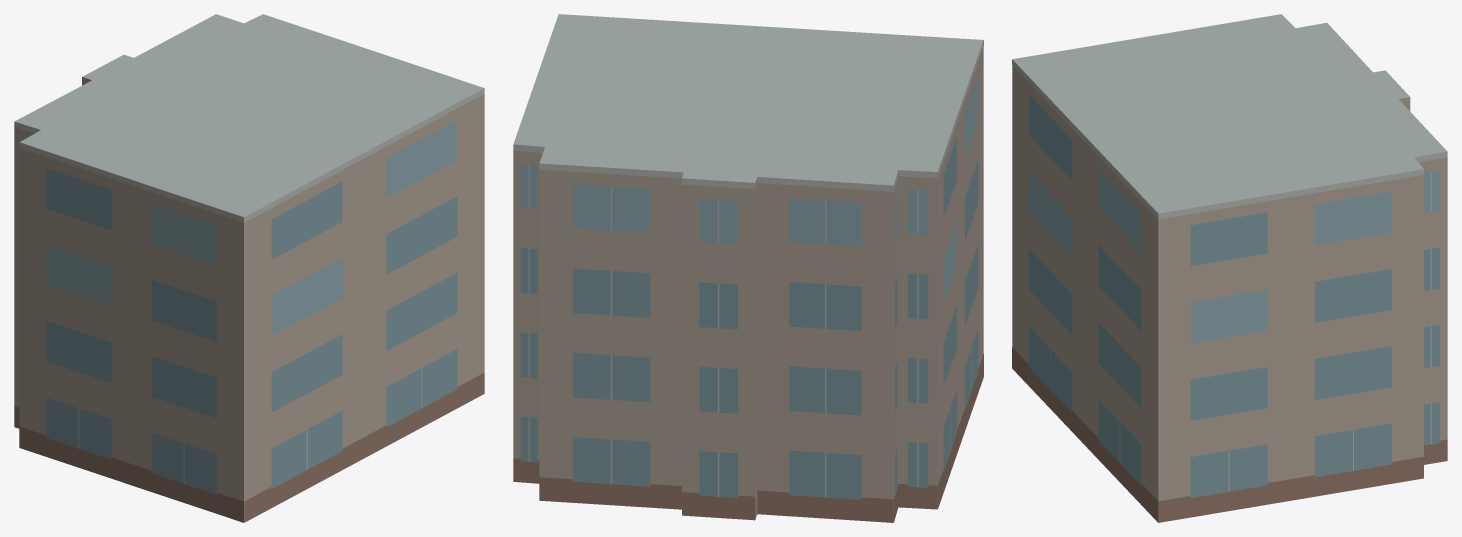
The model's file is survey-upis-32748093.glb.
3 views of the same model, side by side, from view 1: azimuth 30°, elevation 25°; view 2: azimuth 150°, elevation 25°; view 3: azimuth 270°, elevation 25° (orthographic). The views are drawn at different scales.
Parts seen in each view (by area): view 1: survey-upis-32748093.tmp; view 2: survey-upis-32748093.tmp; view 3: survey-upis-32748093.tmp.
Boxes of the visible parts, x1,y1,x2,y2 form: survey-upis-32748093.tmp: [14, 14, 484, 522]; survey-upis-32748093.tmp: [513, 14, 983, 522]; survey-upis-32748093.tmp: [1012, 14, 1447, 522].
Bounding box in the file's own units: 18.22 × 13.15 × 16.8.
